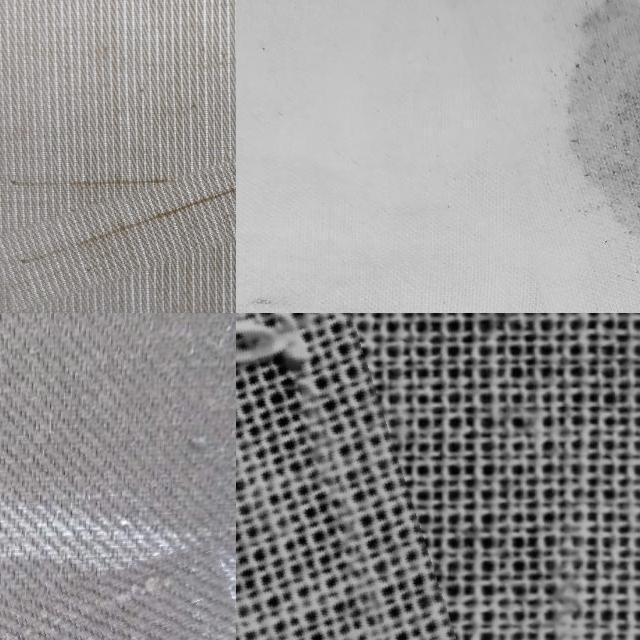Hole: (454, 0, 640, 313)
Thread_other: (236, 313, 428, 640), (0, 108, 236, 270), (461, 487, 640, 640), (0, 574, 236, 640)
